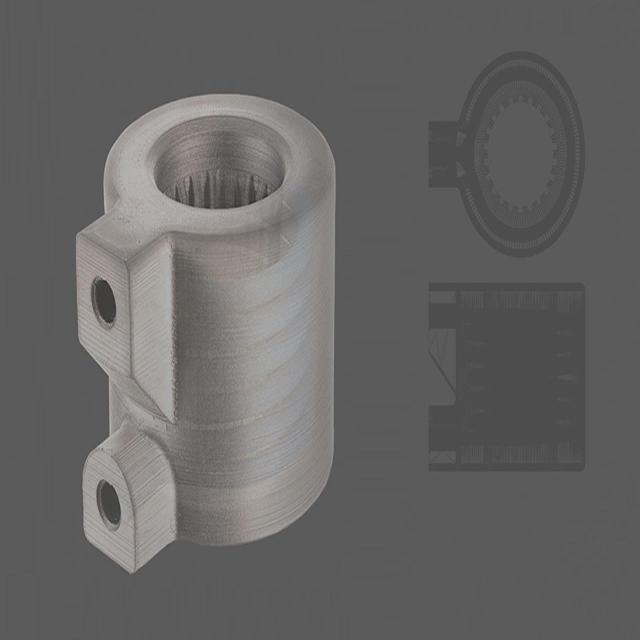Without deffect: (60, 76, 355, 576)
